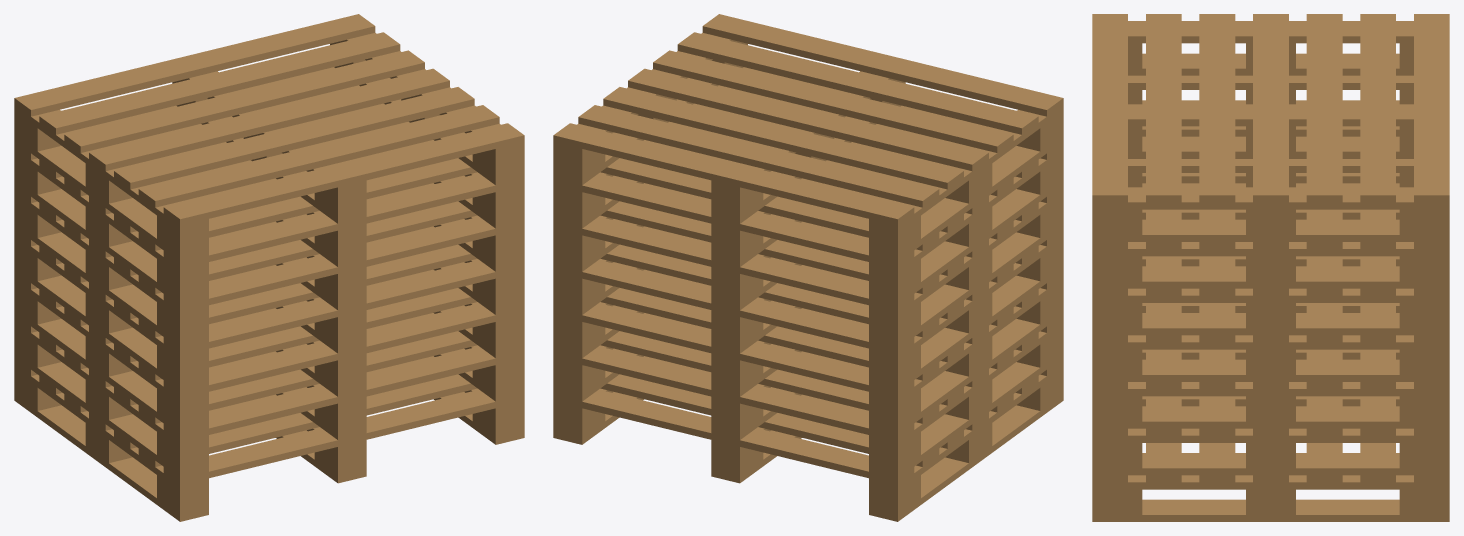
File: plant.store.pallets.glb
3 views of the same model, side by side, from view 1: azimuth 30°, elevation 25°; view 2: azimuth 150°, elevation 25°; view 3: azimuth 270°, elevation 25° (orthographic). The views are drawn at different scales.
Parts seen in each view (by area): view 1: main__softwood; view 2: main__softwood; view 3: main__softwood.
Part boxes in pixels (x1=…): main__softwood: x1=14, y1=14, x2=524, y2=521; main__softwood: x1=553, y1=14, x2=1063, y2=521; main__softwood: x1=1092, y1=14, x2=1449, y2=521.
Bounding box in the file's own units: 1.2 × 1.01 × 1.
